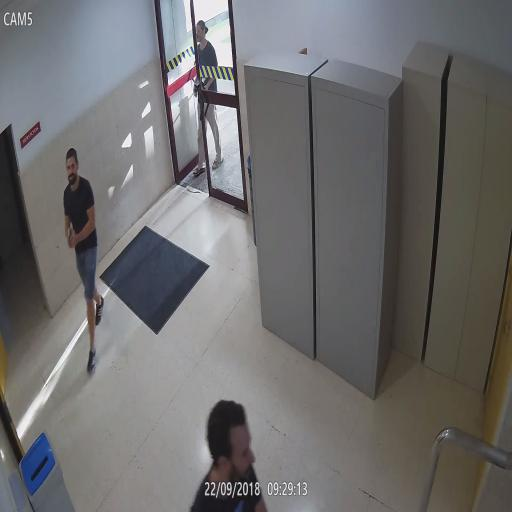Handgun: (65, 222, 75, 250)
